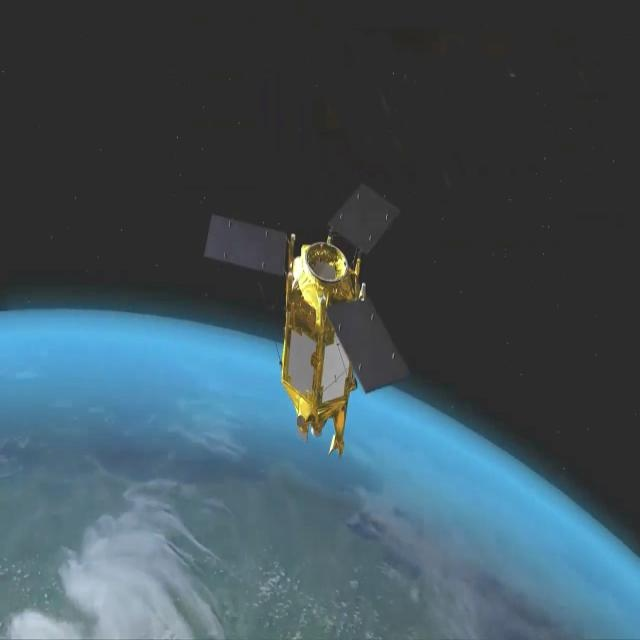satellite: (203, 99, 437, 489)
